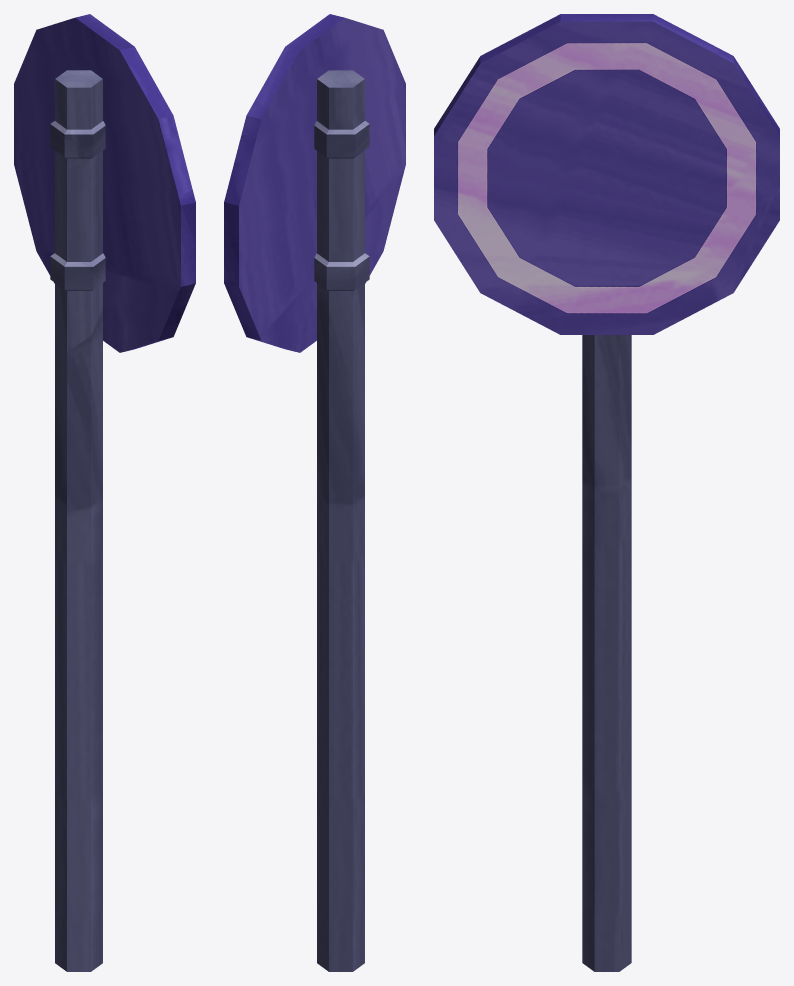
Rendered from ts_sign.fbx.
3 renders of one model, left to right at view 1: azimuth 30°, elevation 25°; view 2: azimuth 150°, elevation 25°; view 3: azimuth 270°, elevation 25°, orthographic. The views are drawn at different scales.
Visible parts, largest first — view 1: ts_sign_pipe, ts_sign; view 2: ts_sign_pipe, ts_sign; view 3: ts_sign, ts_sign_pipe.
Boxes of the visible parts, <box> form: ts_sign_pipe: <box>50,70,105,971</box>; ts_sign: <box>14,14,195,352</box>; ts_sign_pipe: <box>314,70,369,971</box>; ts_sign: <box>224,14,405,352</box>; ts_sign: <box>434,14,779,334</box>; ts_sign_pipe: <box>582,335,631,971</box>.
Size of the model in its own units: 0.0892 by 1.43 by 0.4694.
